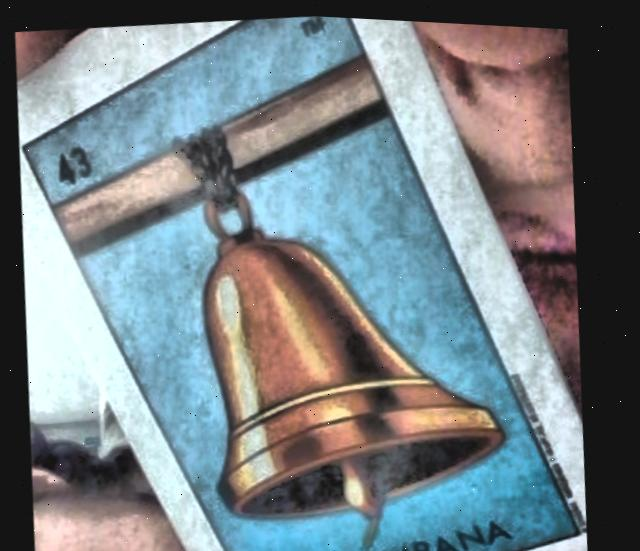La Campana: (26, 12, 587, 551)
